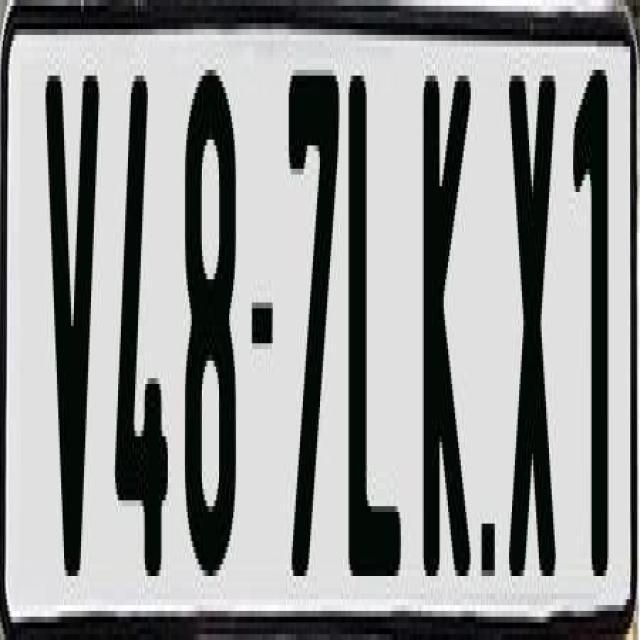1: (570, 70, 608, 582)
4: (111, 76, 171, 612)
7: (286, 64, 342, 576)
8: (184, 64, 243, 588)
K: (420, 64, 470, 582)
L: (348, 70, 402, 600)
V: (41, 63, 104, 600)
X: (506, 70, 562, 576)
